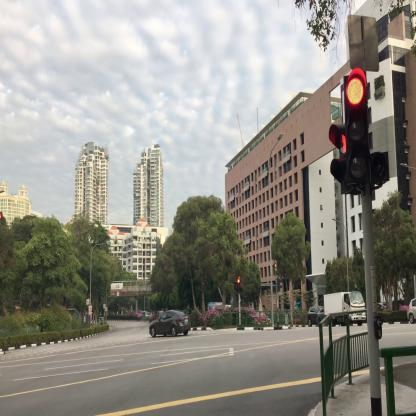red_traffic_light: (347, 75, 369, 180), (237, 278, 240, 292)
